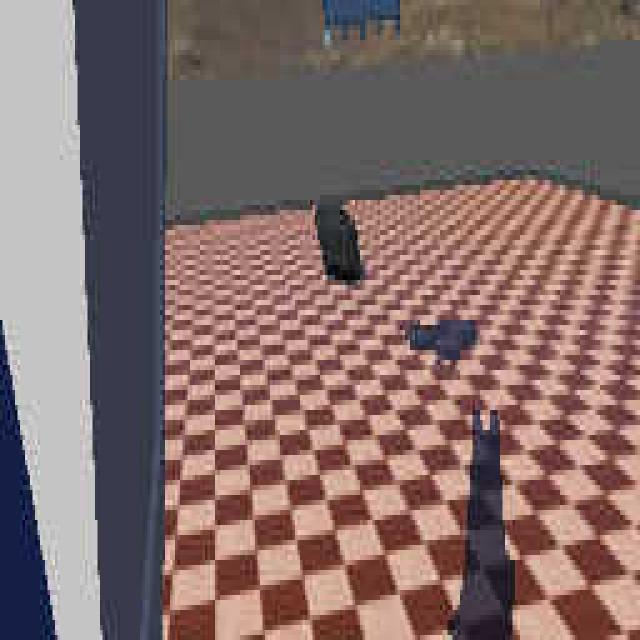rock: (313, 194, 364, 284)
